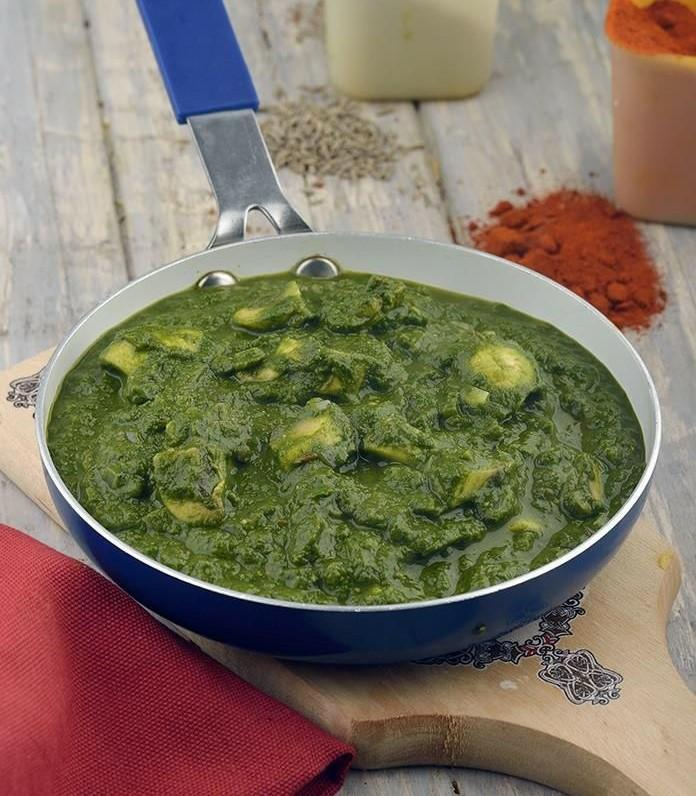PalakPaneer: (53, 270, 644, 604)
